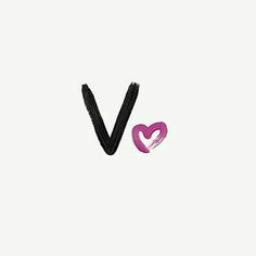v: (76, 80, 142, 160)
